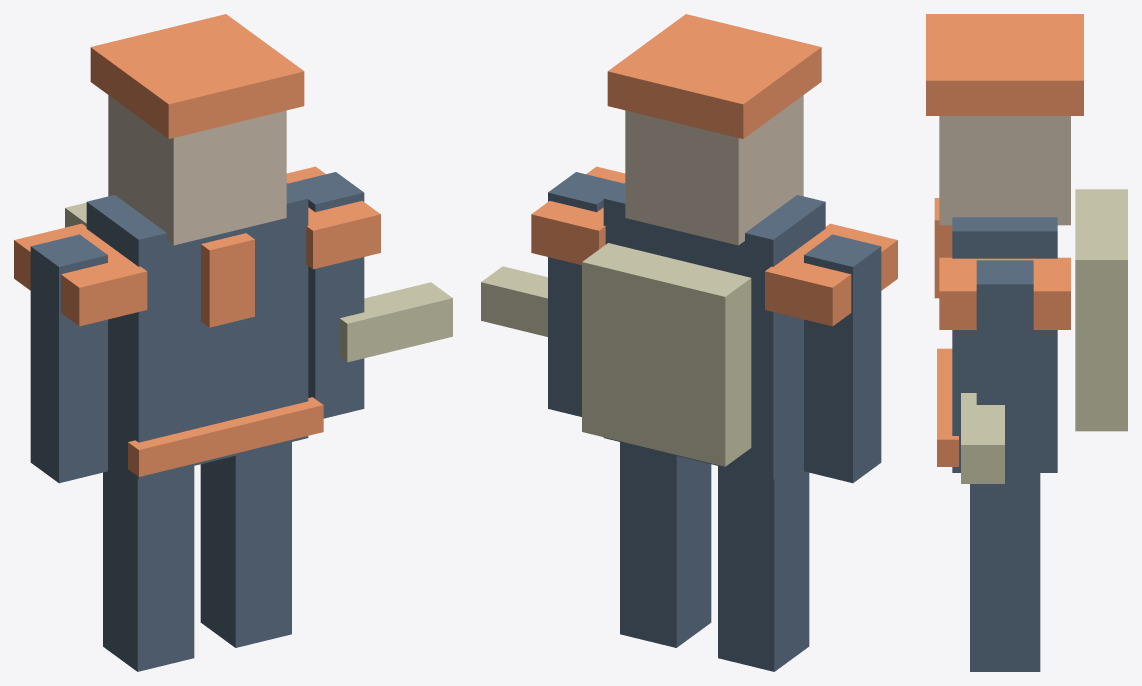
File: 18_maven_cinderholt_specialist_of_anti_orbital.glb
3 views of the same model, side by side, from view 1: azimuth 30°, elevation 25°; view 2: azimuth 150°, elevation 25°; view 3: azimuth 270°, elevation 25° (orthographic).
Parts seen in each view (by area): view 1: Maven Cinderholt, Specialist of Anti-Orbital; view 2: Maven Cinderholt, Specialist of Anti-Orbital; view 3: Maven Cinderholt, Specialist of Anti-Orbital.
Part boxes in pixels (<box>): Maven Cinderholt, Specialist of Anti-Orbital: <box>14,14,452,671</box>; Maven Cinderholt, Specialist of Anti-Orbital: <box>481,14,897,671</box>; Maven Cinderholt, Specialist of Anti-Orbital: <box>926,14,1127,671</box>.
Size of the model in its own units: 1.03 by 1.48 by 0.4617.
